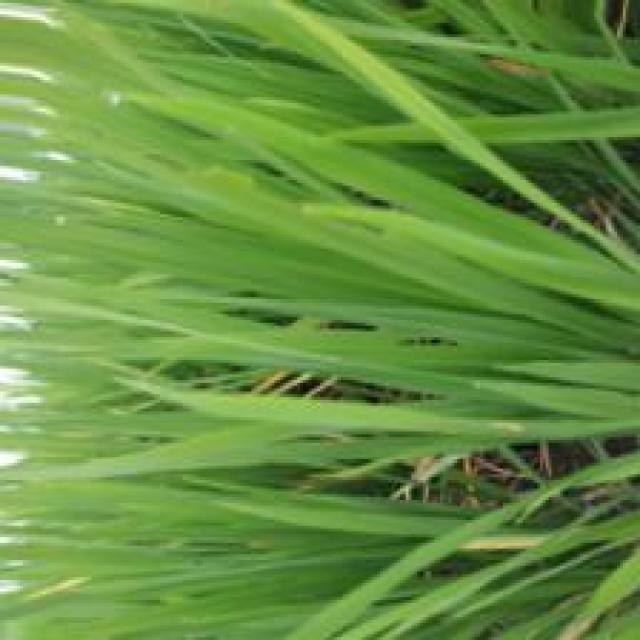HealthyLeaf: (184, 224, 468, 311), (361, 153, 546, 251)
